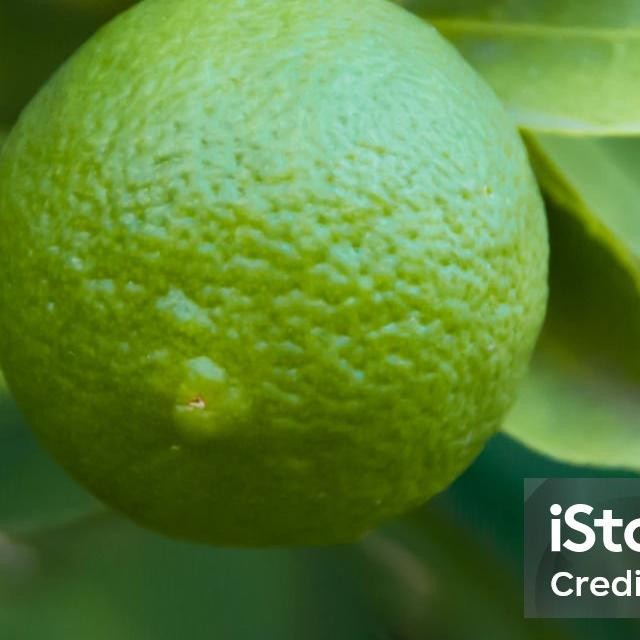lime: (0, 0, 555, 556)
